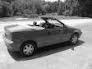car: (5, 14, 84, 55)
